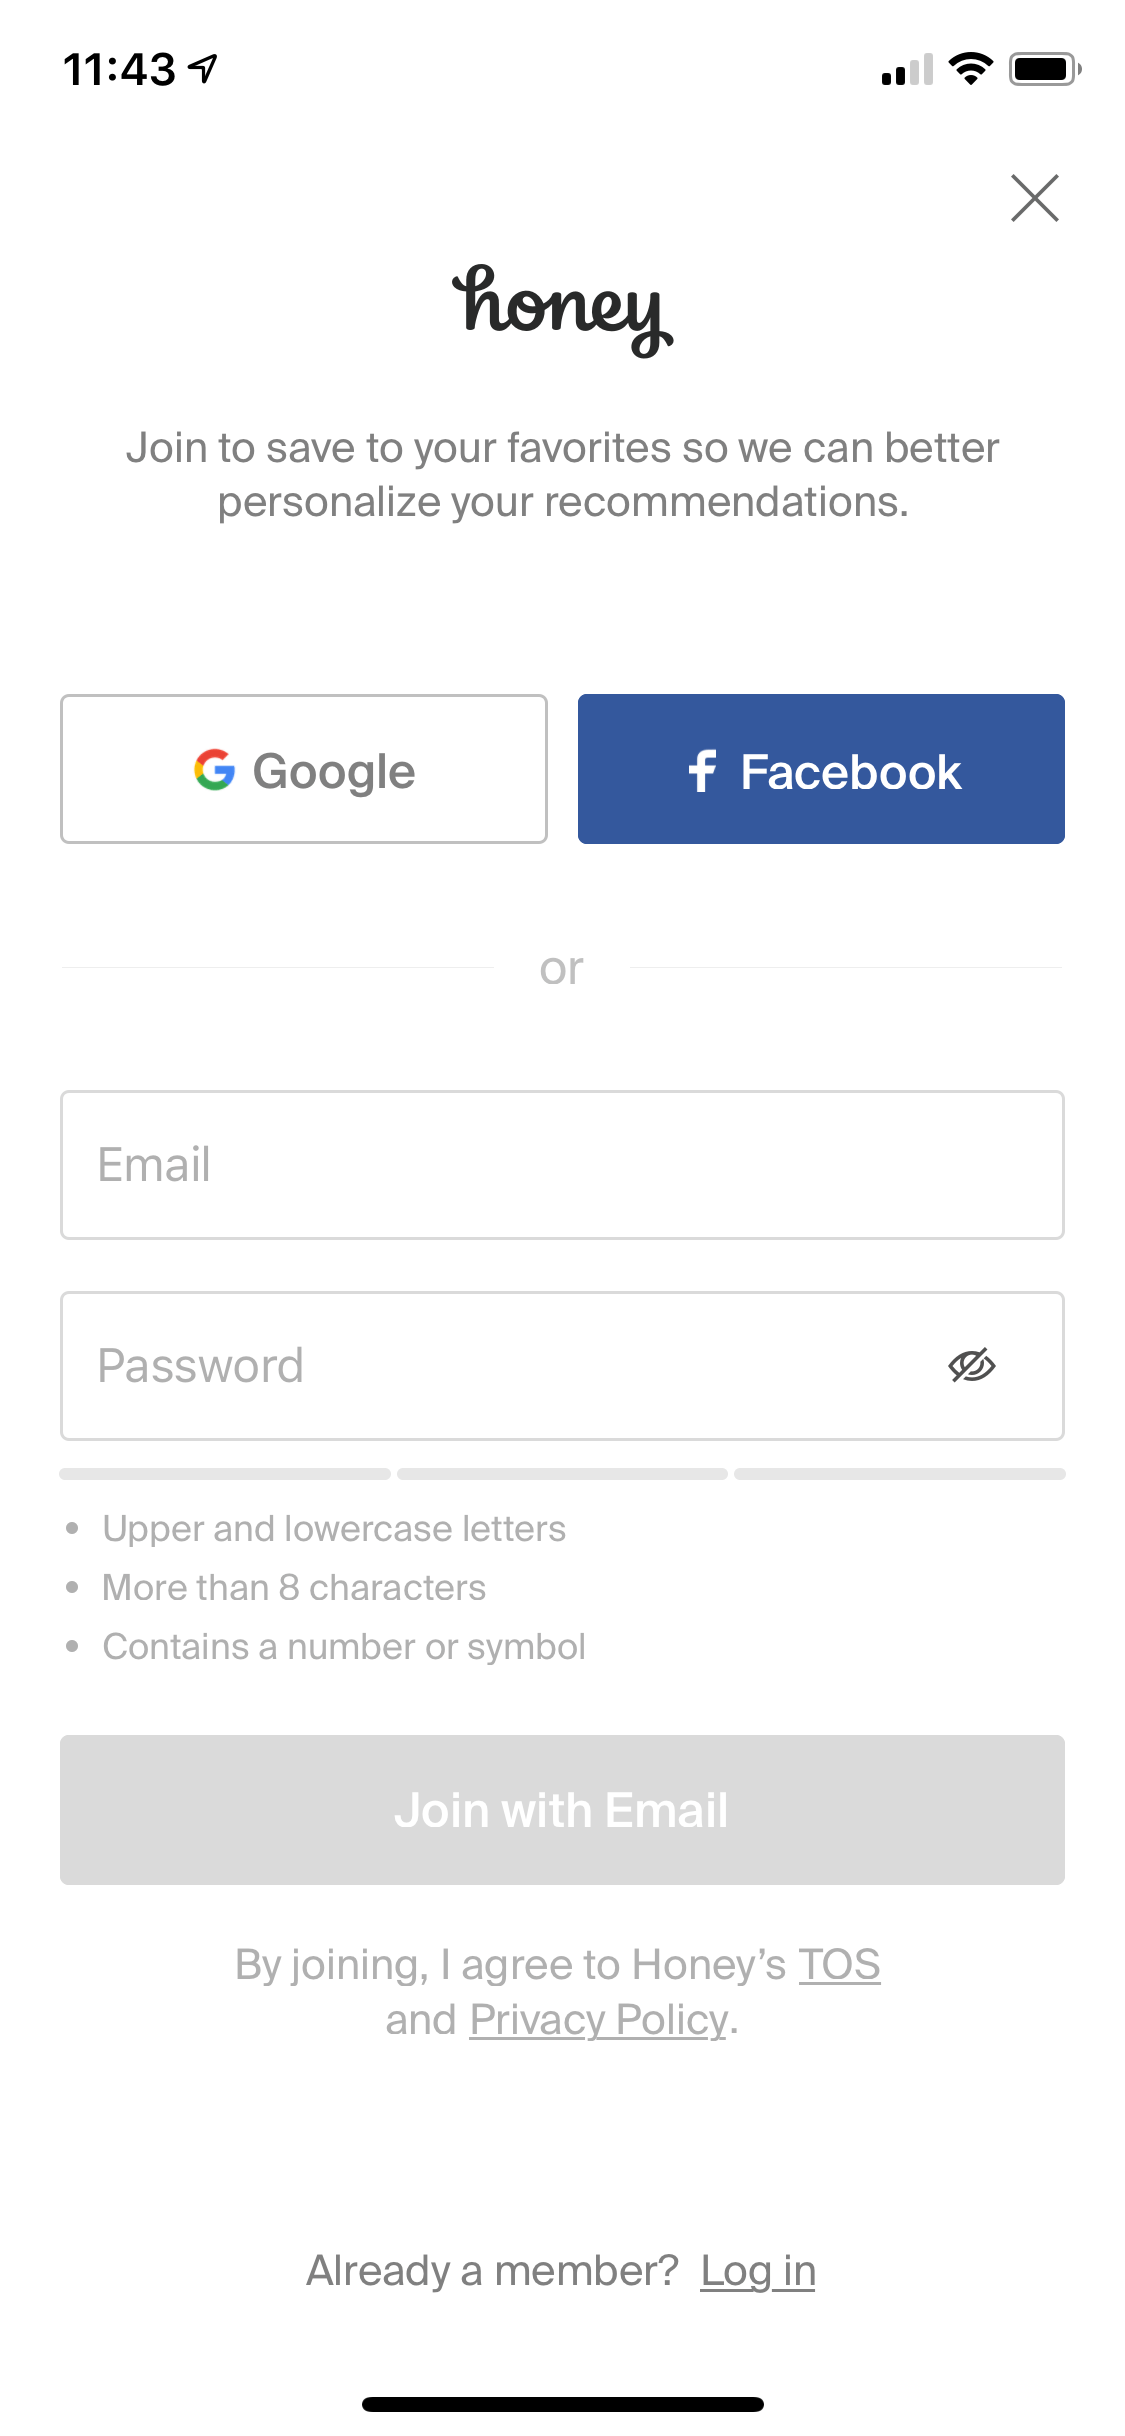Buttons: (39, 1720, 1075, 1906), (51, 682, 559, 864), (570, 680, 1081, 861), (977, 138, 1095, 252)
Text Fields: (44, 1268, 1089, 1453), (50, 1070, 1085, 1252)
